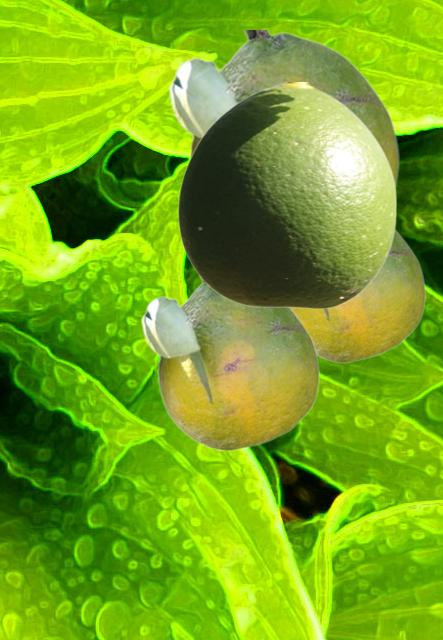dalandan: (177, 82, 396, 308), (167, 30, 399, 192), (140, 276, 319, 450), (294, 229, 425, 362)
